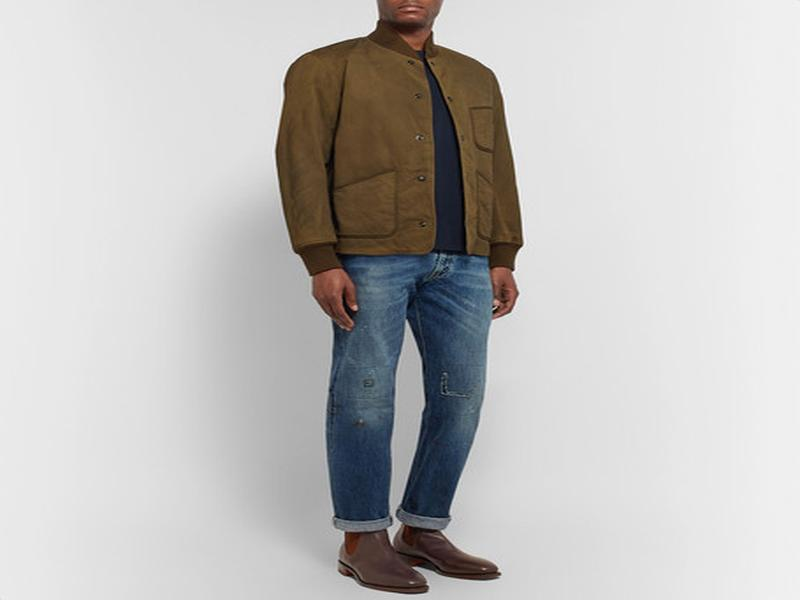shoes_men_chelsea_chelseaboots_leather_none_none_brown_none: (327, 518, 433, 594), (392, 520, 516, 584)
